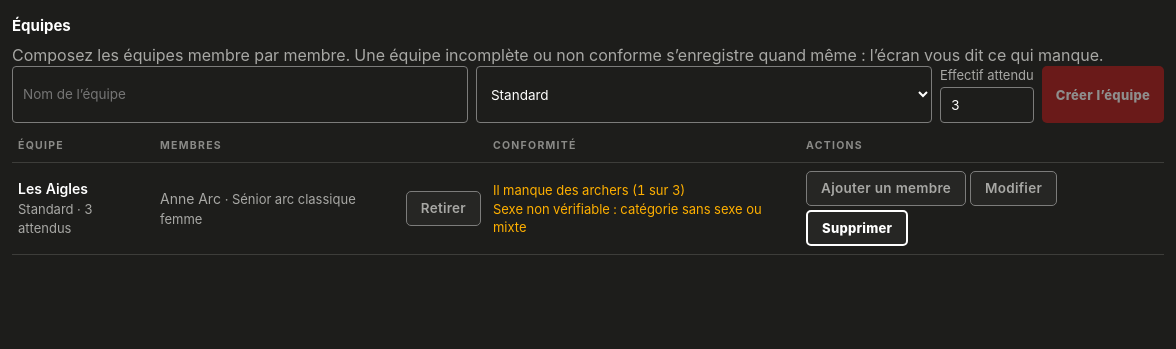
Scenario: Équipes › ajoute un membre choisi par recherche, une seule requête même au double-clic
Click the button with aria-label "Ajouter un membre à l’équipe Les Aigles" at (886, 189), box x1=806 y1=171 x2=966 y2=206
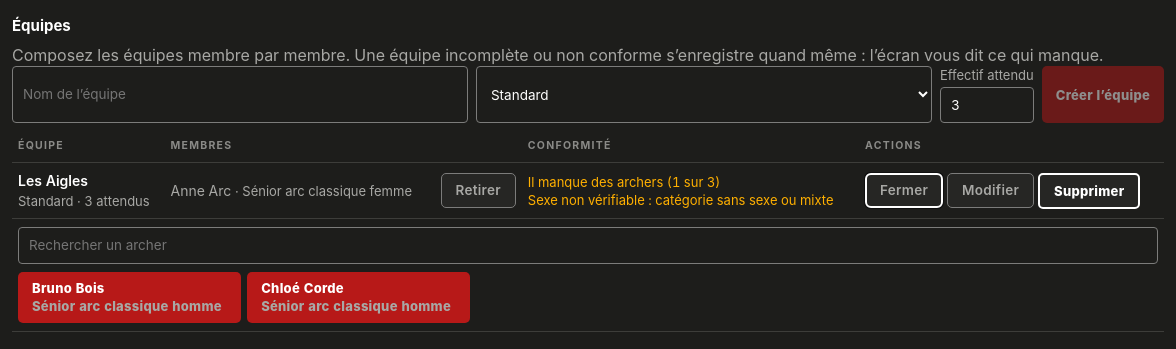
Type "chlo" into the search field labelled "Rechercher un archer" at (588, 246), box x1=18 y1=227 x2=1158 y2=264
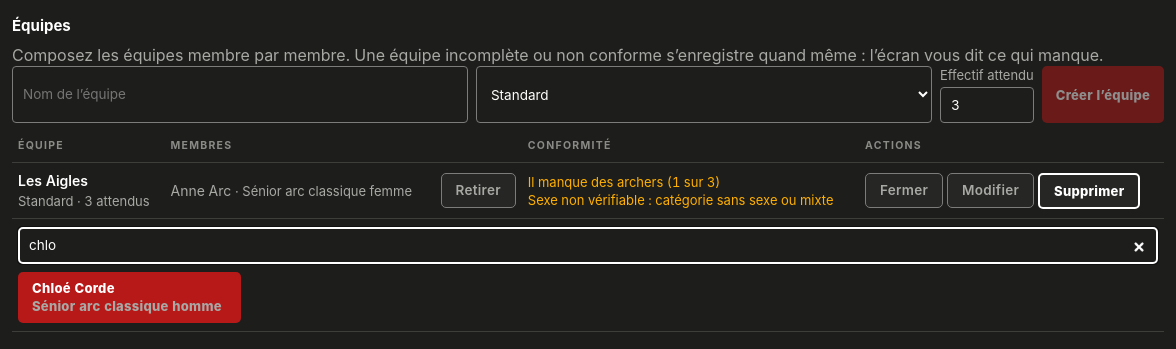
Double-click the button with aria-label "Ajouter Chloé Corde à l’équipe Les Aigles" at (130, 297), box x1=18 y1=272 x2=241 y2=323
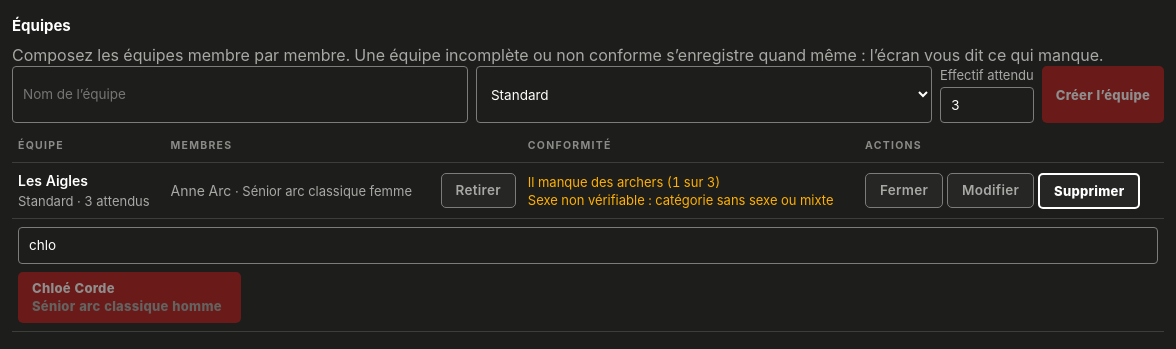
Check: the button with aria-label "Ajouter Chloé Corde à l’équipe Les Aigles" is disabled, box x1=18 y1=272 x2=241 y2=323
